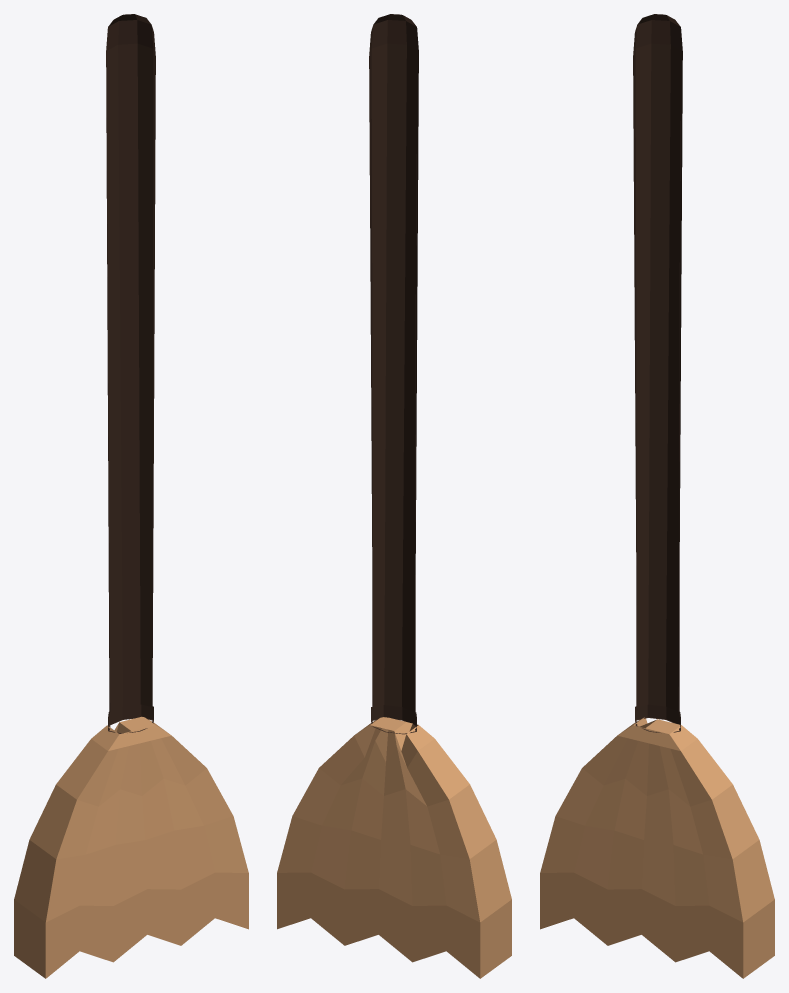
File: Vassoura.fbx
3 views of the same model, side by side, from view 1: azimuth 30°, elevation 25°; view 2: azimuth 150°, elevation 25°; view 3: azimuth 330°, elevation 25° (orthographic).
Visible parts, largest first — view 1: Plane, Circle; view 2: Plane, Circle; view 3: Plane, Circle.
Boxes of the visible parts, left/top/right/bottom form: Plane: left=14, top=716, right=248, bottom=978; Circle: left=106, top=14, right=155, bottom=733; Plane: left=277, top=717, right=511, bottom=978; Circle: left=369, top=14, right=418, bottom=734; Plane: left=540, top=717, right=774, bottom=978; Circle: left=633, top=14, right=682, bottom=732.
Bounding box in the file's own units: 35 × 152 × 9.46.
